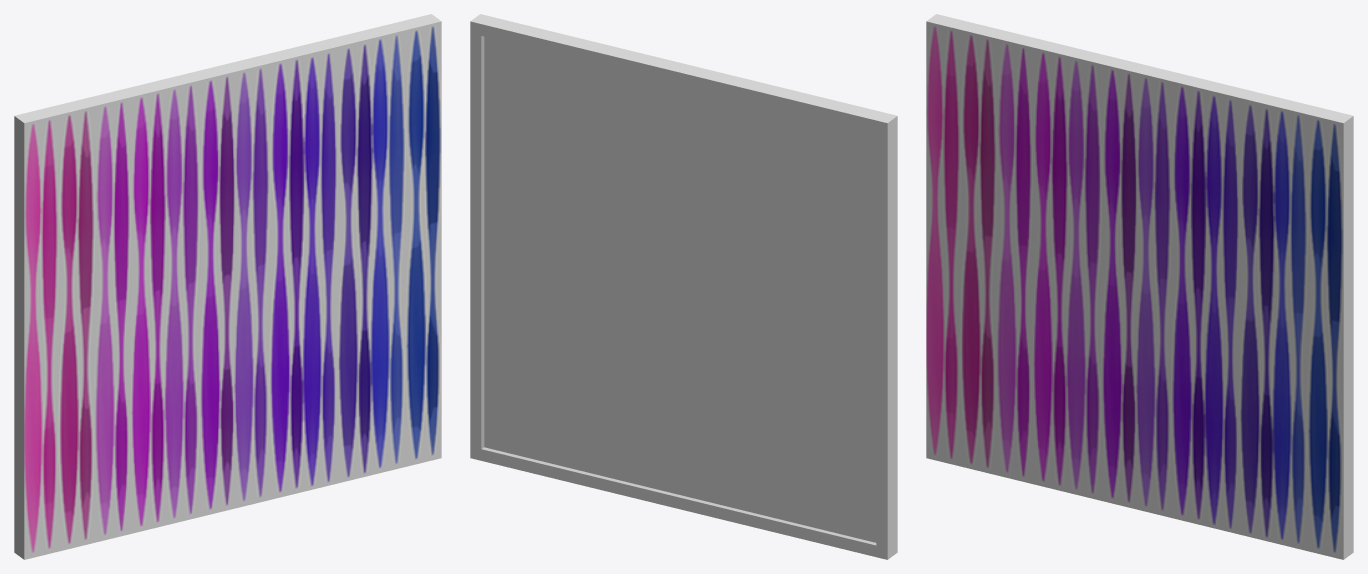
The model's file is Wall_Art_C_3.FBX.
The picture shows the model from 3 angles, left to right: view 1: azimuth 30°, elevation 25°; view 2: azimuth 150°, elevation 25°; view 3: azimuth 330°, elevation 25°; orthographic projection.
Parts seen in each view (by area): view 1: Wall_Art_A; view 2: Wall_Art_A; view 3: Wall_Art_A.
Part boxes in pixels (x1,y1,x2,y2): Wall_Art_A: (14,14,441,559); Wall_Art_A: (470,14,897,559); Wall_Art_A: (926,14,1353,559).
Bounding box in the file's own units: 190 × 190 × 8.
